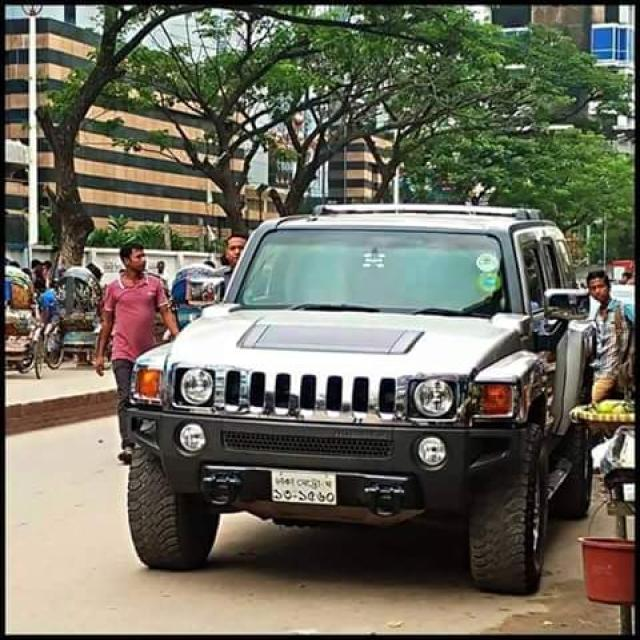numberplate: (270, 469, 338, 506)
